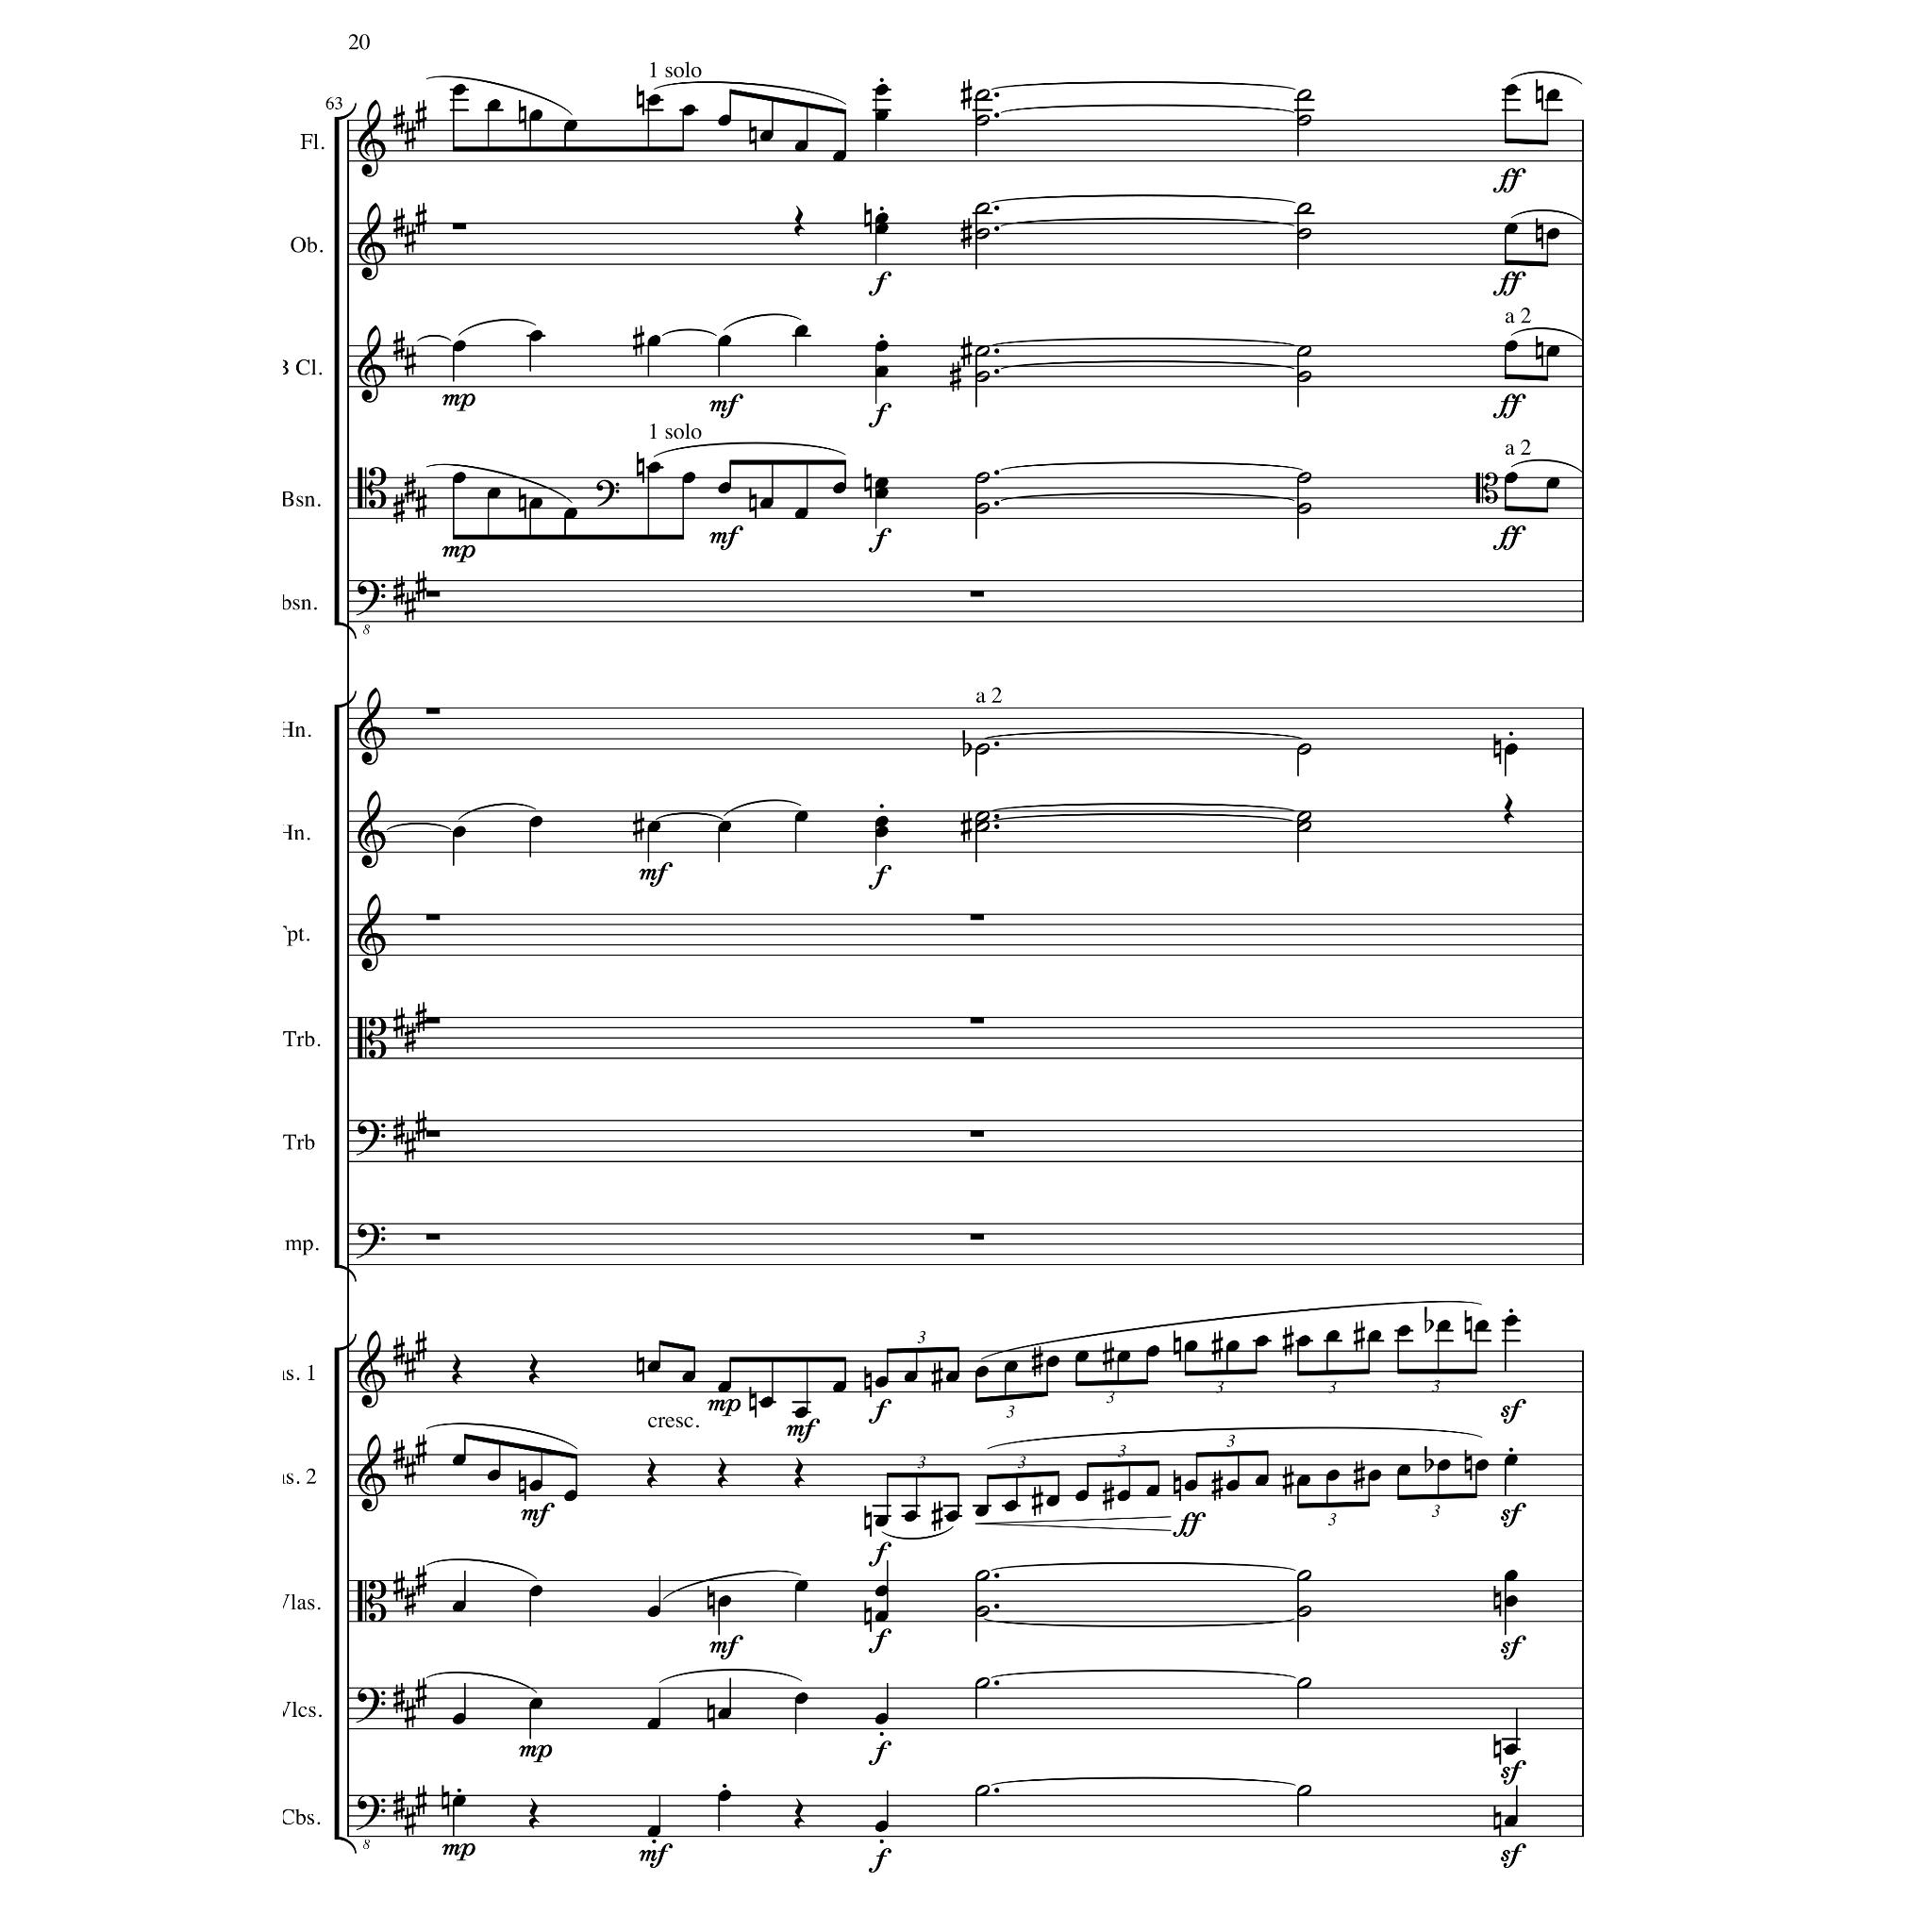fClef: (355, 580, 385, 616), (355, 1121, 385, 1157), (355, 1224, 385, 1259), (355, 1795, 385, 1831), (355, 1688, 385, 1724)
gClef: (358, 325, 386, 404), (358, 202, 386, 281), (358, 687, 386, 766), (358, 1330, 386, 1409), (358, 100, 386, 177), (358, 894, 386, 972), (358, 791, 386, 868), (358, 1434, 386, 1511)
noteheadBlack: (1224, 1340, 1240, 1353), (1224, 1479, 1240, 1492), (1183, 1479, 1198, 1492), (1183, 1340, 1198, 1353), (1045, 1494, 1060, 1507), (1045, 1355, 1060, 1368), (1436, 1458, 1451, 1472), (1436, 1319, 1451, 1332), (1396, 1464, 1411, 1477), (1396, 1324, 1411, 1338), (1545, 89, 1560, 102), (528, 1585, 543, 1598), (528, 1479, 543, 1492), (528, 815, 543, 828), (562, 119, 577, 132), (451, 340, 466, 353), (451, 1794, 466, 1807), (451, 1600, 466, 1613), (451, 472, 466, 485), (451, 83, 466, 96), (874, 1585, 889, 1598), (874, 1515, 889, 1528), (874, 1375, 889, 1389), (874, 815, 889, 828), (874, 487, 889, 500), (874, 340, 889, 353), (874, 223, 889, 236), (874, 83, 889, 96), (681, 472, 696, 485), (681, 104, 696, 117), (717, 1707, 732, 1721), (717, 1594, 732, 1607), (717, 481, 732, 494), (758, 1396, 774, 1409), (1255, 1474, 1268, 1487), (1296, 1474, 1309, 1487), (1004, 1360, 1017, 1374), (1504, 472, 1517, 485), (1504, 340, 1517, 353), (1504, 223, 1517, 236), (1504, 83, 1517, 96), (1504, 1815, 1517, 1828), (1504, 1594, 1517, 1607), (1475, 1458, 1489, 1472), (1475, 1319, 1489, 1332), (487, 487, 500, 500), (647, 1824, 660, 1838), (647, 1717, 660, 1730), (647, 1360, 660, 1374), (832, 481, 845, 494), (945, 1509, 958, 1523), (904, 1509, 917, 1523), (794, 1579, 808, 1592), (794, 1406, 808, 1419), (794, 325, 808, 338), (794, 140, 808, 153), (1545, 228, 1560, 240), (1545, 477, 1560, 489), (1545, 345, 1560, 357), (528, 1698, 543, 1709), (528, 498, 543, 509), (528, 330, 543, 341), (528, 109, 543, 121), (562, 508, 577, 519), (562, 1491, 577, 1502), (451, 1713, 466, 1724), (451, 1455, 466, 1466), (451, 826, 466, 838), (874, 1821, 889, 1832), (874, 1713, 889, 1724), (874, 1611, 889, 1623), (874, 213, 889, 225), (874, 826, 889, 838), (874, 477, 889, 489), (874, 366, 889, 377), (874, 109, 889, 121), (974, 1506, 989, 1517), (974, 1366, 989, 1377), (717, 1790, 732, 1802), (681, 1372, 696, 1383), (717, 336, 732, 347), (717, 1381, 732, 1392), (717, 821, 732, 832), (717, 115, 732, 126), (758, 130, 774, 142), (758, 498, 774, 509), (1255, 1336, 1268, 1347), (1117, 1491, 1130, 1502), (1117, 1351, 1130, 1362), (1146, 1485, 1159, 1496), (1146, 1345, 1159, 1357), (1368, 1470, 1381, 1481), (1368, 1330, 1381, 1341), (1326, 1470, 1340, 1481), (1326, 1330, 1340, 1341), (1296, 1336, 1309, 1347), (1004, 1500, 1017, 1511), (1075, 1491, 1089, 1502), (1075, 1351, 1089, 1362), (1504, 1315, 1517, 1326), (1504, 743, 1517, 755), (1504, 1743, 1517, 1755), (1504, 1570, 1517, 1581), (1504, 1455, 1517, 1466), (487, 1470, 500, 1481), (487, 100, 500, 111), (647, 1606, 660, 1617), (647, 821, 660, 832), (647, 462, 660, 474), (647, 336, 660, 347), (647, 94, 660, 106), (832, 151, 845, 162), (832, 1381, 845, 1392), (945, 1372, 958, 1383), (904, 1372, 917, 1383), (794, 1692, 808, 1704), (794, 811, 808, 823), (794, 508, 808, 519)
noteheadHalf: (1296, 472, 1311, 485), (1296, 502, 1311, 515), (1296, 370, 1311, 383), (1296, 202, 1311, 215), (1296, 89, 1311, 102), (974, 202, 990, 215), (974, 472, 990, 485), (974, 502, 990, 515), (974, 370, 990, 383), (974, 89, 990, 102), (1296, 1785, 1311, 1796), (1296, 1677, 1311, 1689), (1296, 1570, 1311, 1581), (1296, 1606, 1311, 1617), (1296, 811, 1311, 823), (1296, 821, 1311, 832), (1296, 743, 1311, 755), (1296, 345, 1311, 357), (1296, 228, 1311, 240), (1296, 115, 1311, 126), (974, 1606, 990, 1617), (974, 811, 990, 823), (974, 821, 990, 832), (974, 743, 990, 755), (974, 345, 990, 357), (974, 1570, 990, 1581), (974, 228, 990, 240), (974, 115, 990, 126), (974, 1785, 990, 1796), (974, 1677, 990, 1689)
restQuarter: (528, 1798, 540, 1830), (528, 1354, 540, 1386), (646, 1457, 658, 1489), (451, 1354, 462, 1386), (717, 1457, 728, 1489), (793, 1798, 805, 1830), (793, 1457, 805, 1489), (793, 206, 805, 238), (1503, 794, 1514, 824)
restWhole: (970, 1130, 983, 1138), (970, 1017, 983, 1024), (970, 591, 983, 598), (426, 1130, 440, 1138), (426, 1017, 440, 1024), (426, 708, 440, 715), (426, 591, 440, 598), (453, 223, 466, 230), (970, 1234, 983, 1240), (970, 915, 983, 921), (426, 1234, 440, 1240), (426, 915, 440, 921)
